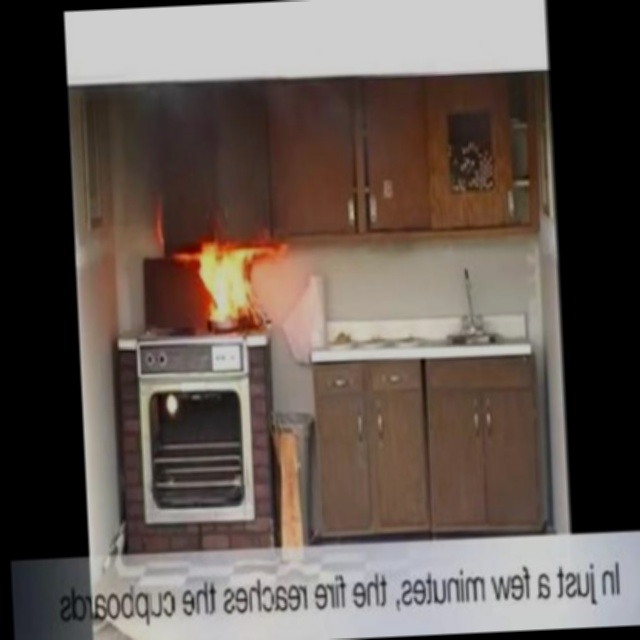fire: (145, 219, 286, 374)
